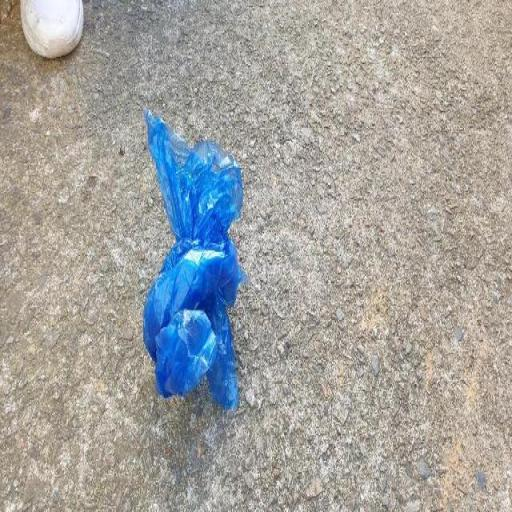plastic-bag: (141, 110, 246, 418)
